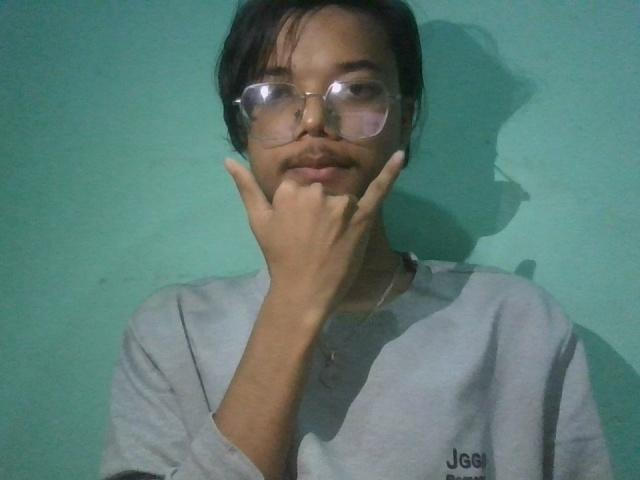Wrong: (206, 130, 430, 311)
